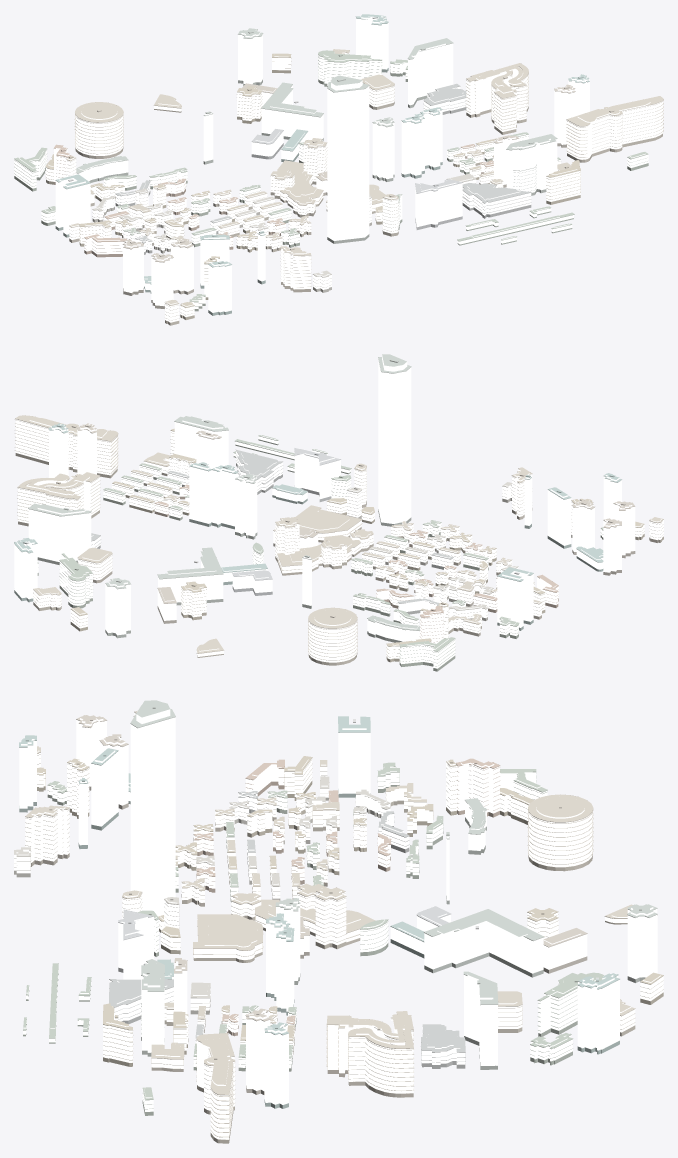
Rendered from buildings--5_0-fine.glb.
The picture shows the model from 3 angles, top to bottom: view 1: azimuth 30°, elevation 25°; view 2: azimuth 150°, elevation 25°; view 3: azimuth 270°, elevation 25°; orthographic projection. The views are drawn at different scales.
Parts seen in each view (by area): view 1: block_-5_0_office, block_-5_0_residential, block_-5_0_roof, block_-5_0_darkglass, block_-5_0_concrete, block_-5_0_steel; view 2: block_-5_0_office, block_-5_0_residential, block_-5_0_roof, block_-5_0_darkglass, block_-5_0_concrete, block_-5_0_steel; view 3: block_-5_0_residential, block_-5_0_office, block_-5_0_roof, block_-5_0_darkglass, block_-5_0_concrete, block_-5_0_steel.
Part boxes in pixels (bbox=[...]): block_-5_0_office: bbox=[55, 16, 589, 312]; block_-5_0_residential: bbox=[14, 51, 662, 322]; block_-5_0_roof: bbox=[14, 14, 663, 320]; block_-5_0_darkglass: bbox=[14, 68, 662, 325]; block_-5_0_concrete: bbox=[14, 52, 663, 320]; block_-5_0_steel: bbox=[55, 17, 589, 283]; block_-5_0_office: bbox=[14, 355, 635, 641]; block_-5_0_residential: bbox=[15, 419, 663, 668]; block_-5_0_roof: bbox=[14, 354, 663, 666]; block_-5_0_darkglass: bbox=[14, 439, 663, 671]; block_-5_0_concrete: bbox=[15, 418, 663, 666]; block_-5_0_steel: bbox=[14, 367, 634, 630]; block_-5_0_residential: bbox=[14, 750, 663, 1139]; block_-5_0_office: bbox=[19, 709, 657, 1104]; block_-5_0_roof: bbox=[14, 700, 663, 1139]; block_-5_0_darkglass: bbox=[14, 781, 663, 1143]; block_-5_0_concrete: bbox=[14, 752, 663, 1137]; block_-5_0_steel: bbox=[19, 712, 657, 1035].
Bounding box in the file's own units: 707 × 188 × 522.
